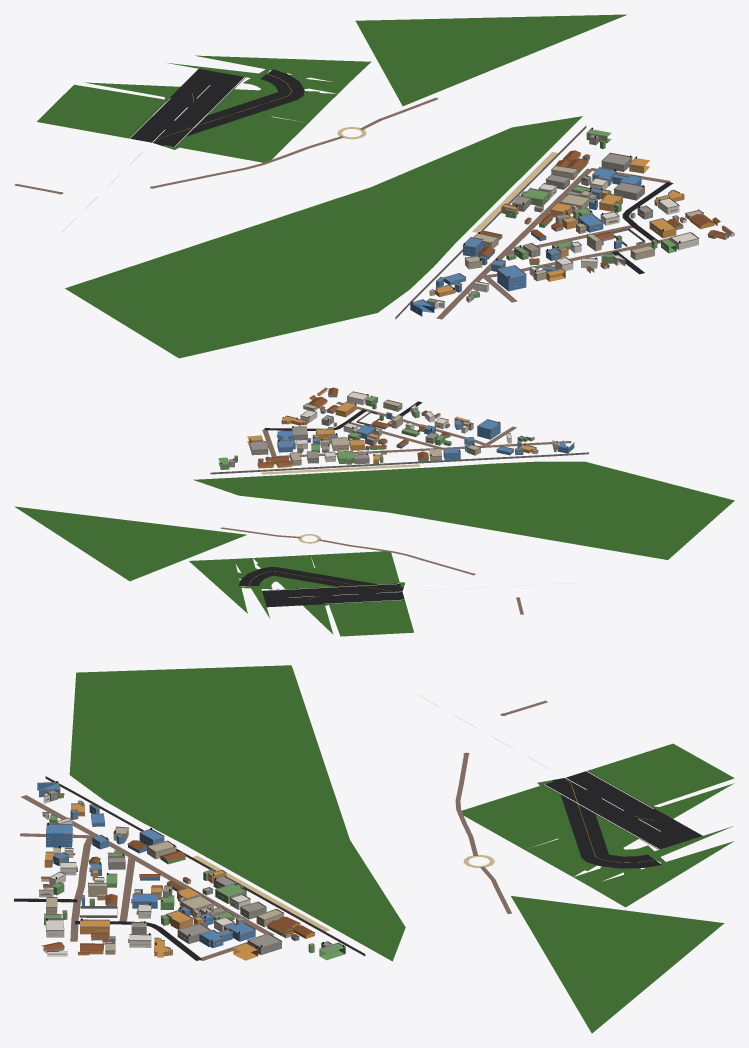
Rendered from zone_t2_2.glb.
3 views of the same model, one above another, from view 1: azimuth 30°, elevation 25°; view 2: azimuth 150°, elevation 25°; view 3: azimuth 270°, elevation 25° (orthographic). The views are drawn at different scales.
Visible parts, largest first — view 1: zone_humide_t2_2, zone_herbe_aerodrome_t2_2, parapet_t2_2, aeroport_runway_t2_2, bld_peinture_bleu_t2_2-col, route_residential_paves_t2_2, bld_beton_t2_2-col, bld_peinture_ocre_t2_2-col, aeroport_taxiway_t2_2, bld_peinture_blanc_t2_2-col, bld_peinture_ecaillee_t2_2-col, bld_peinture_vert_t2_2-col (+6 smaller); view 2: zone_humide_t2_2, zone_herbe_aerodrome_t2_2, parapet_t2_2, aeroport_runway_t2_2, bld_peinture_bleu_t2_2-col, bld_beton_t2_2-col, route_residential_paves_t2_2, aeroport_taxiway_t2_2, bld_peinture_ocre_t2_2-col, bld_peinture_ecaillee_t2_2-col, bld_peinture_vert_t2_2-col, bld_peinture_blanc_t2_2-col (+4 smaller); view 3: zone_humide_t2_2, zone_herbe_aerodrome_t2_2, aeroport_runway_t2_2, parapet_t2_2, bld_peinture_bleu_t2_2-col, route_residential_paves_t2_2, aeroport_taxiway_t2_2, bld_peinture_ocre_t2_2-col, bld_beton_t2_2-col, bld_peinture_blanc_t2_2-col, bld_peinture_vert_t2_2-col, bld_peinture_ecaillee_t2_2-col (+6 smaller).
Part boxes in pixels (x1,y1,x2,y2): zone_humide_t2_2: (65,14,626,358); zone_herbe_aerodrome_t2_2: (37,55,371,162); parapet_t2_2: (410,128,703,310); aeroport_runway_t2_2: (129,69,245,146); bld_peinture_bleu_t2_2-col: (410,157,641,316); route_residential_paves_t2_2: (436,168,694,319); bld_beton_t2_2-col: (427,135,729,308); bld_peinture_ocre_t2_2-col: (435,154,717,296); aeroport_taxiway_t2_2: (153,69,304,145); bld_peinture_blanc_t2_2-col: (435,178,734,309); bld_peinture_ecaillee_t2_2-col: (429,160,703,295); bld_peinture_vert_t2_2-col: (468,129,676,298); zone_humide_t2_2: (14,461,734,581); zone_herbe_aerodrome_t2_2: (189,551,413,636); parapet_t2_2: (219,391,574,465); aeroport_runway_t2_2: (262,583,404,607); bld_peinture_bleu_t2_2-col: (258,413,574,462); bld_beton_t2_2-col: (229,394,557,467); route_residential_paves_t2_2: (262,401,571,457); aeroport_taxiway_t2_2: (238,567,403,591); bld_peinture_ocre_t2_2-col: (247,397,536,468); bld_peinture_ecaillee_t2_2-col: (266,400,538,465); bld_peinture_vert_t2_2-col: (218,396,556,469); bld_peinture_blanc_t2_2-col: (296,388,555,462); zone_humide_t2_2: (69,665,724,1033); zone_herbe_aerodrome_t2_2: (462,743,734,907); aeroport_runway_t2_2: (543,771,702,849); parapet_t2_2: (37,781,345,952); bld_peinture_bleu_t2_2-col: (37,783,299,947); route_residential_paves_t2_2: (20,795,274,960); aeroport_taxiway_t2_2: (552,778,661,868); bld_peinture_ocre_t2_2-col: (44,804,314,960); bld_beton_t2_2-col: (42,790,330,954); bld_peinture_blanc_t2_2-col: (39,793,250,956); bld_peinture_vert_t2_2-col: (44,795,345,960); bld_peinture_ecaillee_t2_2-col: (46,801,294,954).
Bounding box in the file's own units: 710 × 14 × 587.
